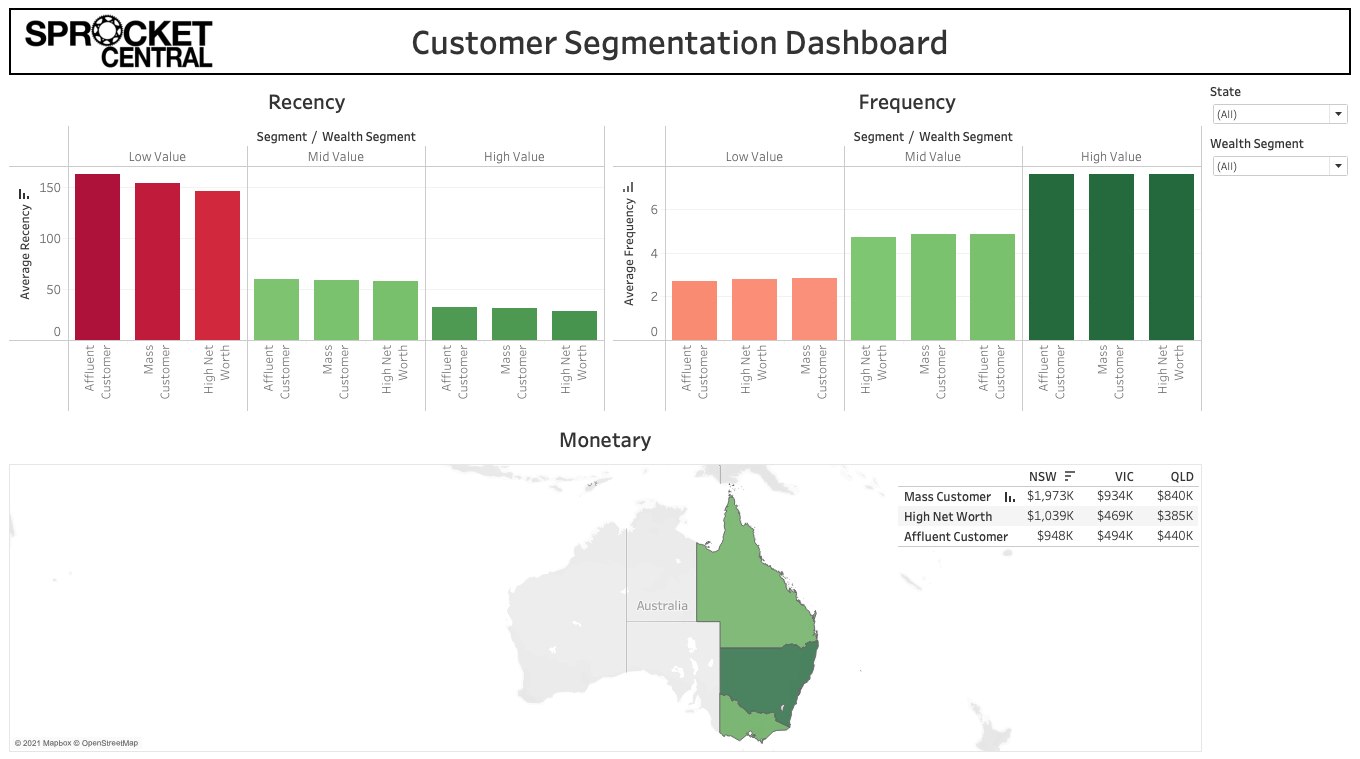

This screenshot's page, from the dashboard's own definition file:
{"tool":"tableau","page":{"name":"Dashboard 1","canvas":[1366,768],"ordinal":0},"visuals":[{"type":"title","box":[8,8,1350,75]},{"type":"image","param":"/Users/saulchirinos/Desktop/Screen Shot 2021-08-20 at 12.22.58 AM.png","box":[24,16,235,59]},{"type":"worksheet","title":"Recency","mark":"Automatic","rows":["recency"],"cols":["segment","wealth_segment"],"box":[8,83,604,338.5]},{"type":"worksheet","title":"Frequency","mark":"Automatic","rows":["frequency"],"cols":["segment","wealth_segment"],"box":[612,83,597,338.5]},{"type":"filter","title":"Monetary","param":"[federated.14qgye30ycb5o41gyu0db13utz9e].[none:state:nk]","box":[1209,83,149,52]},{"type":"filter","title":"Monetary","param":"[federated.14qgye30ycb5o41gyu0db13utz9e].[none:wealth_segment:nk]","box":[1209,135,149,52]},{"type":"worksheet","title":"Monetary","mark":"Automatic","box":[8,421.5,1201,338.5]},{"type":"worksheet","title":"Monetary Table","mark":"Automatic","rows":["wealth_segment"],"cols":["state"],"box":[901,470,303,81]}]}

Visuals, with their boxes in screenshot pixels (x1, y1, x2, y2), scaled from the page's 1366x768 canvas onto the 1360x759 screenshot:
title: (x1=8, y1=8, x2=1352, y2=82)
image: (x1=24, y1=16, x2=258, y2=74)
"Recency" worksheet: (x1=8, y1=82, x2=609, y2=417)
"Frequency" worksheet: (x1=609, y1=82, x2=1204, y2=417)
"Monetary" filter: (x1=1204, y1=82, x2=1352, y2=133)
"Monetary" filter: (x1=1204, y1=133, x2=1352, y2=185)
"Monetary" worksheet: (x1=8, y1=417, x2=1204, y2=751)
"Monetary Table" worksheet: (x1=897, y1=464, x2=1199, y2=545)
